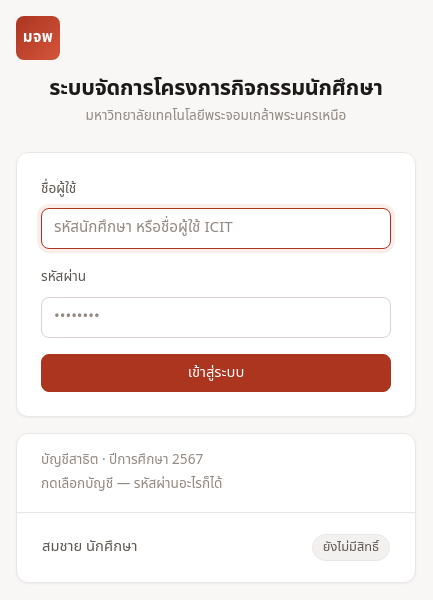
Test: fills both fields for a mock deployment with no shared password
// No role yet is a real, sayable state — not a blank pill.
Click the button "สมชาย นักศึกษา ยังไม่มีสิทธิ์".
click(90, 547)  # box top-left (29, 525), bottom-right (403, 570)
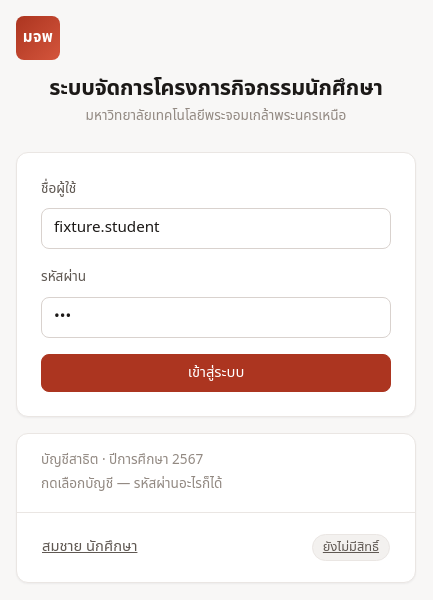
Check: the field labelled "ชื่อผู้ใช้" holds "fixture.student", box top-left (41, 208), bottom-right (391, 249)
Check: the password field labelled "รหัสผ่าน" holds "dev", box top-left (41, 297), bottom-right (391, 338)
